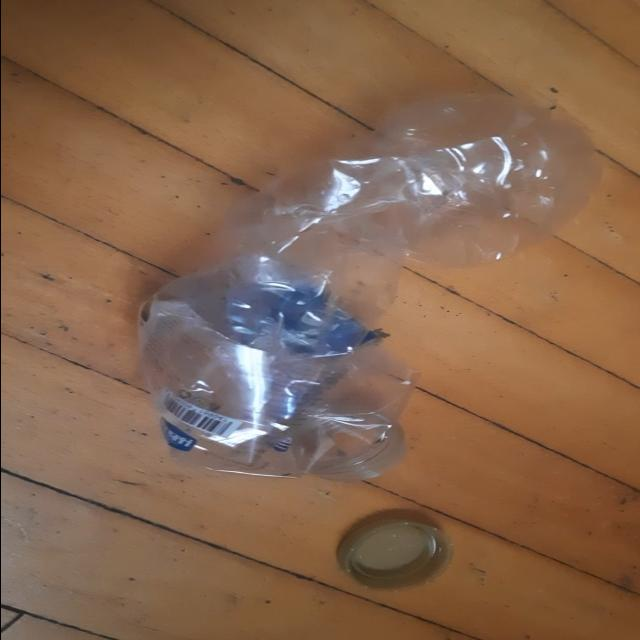Plastic: (136, 94, 604, 480)
